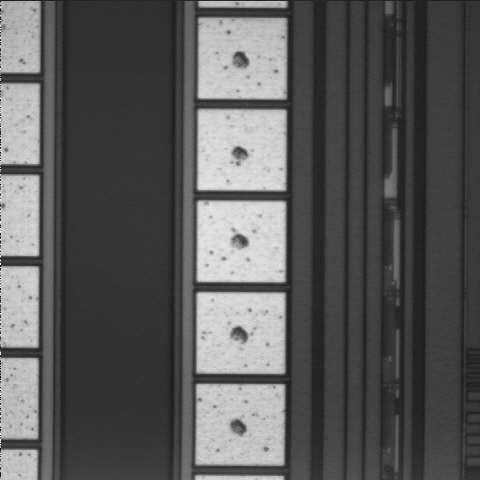pad: (198, 18, 286, 99), (197, 201, 285, 282), (197, 293, 285, 374), (196, 384, 284, 465), (198, 110, 286, 190)
